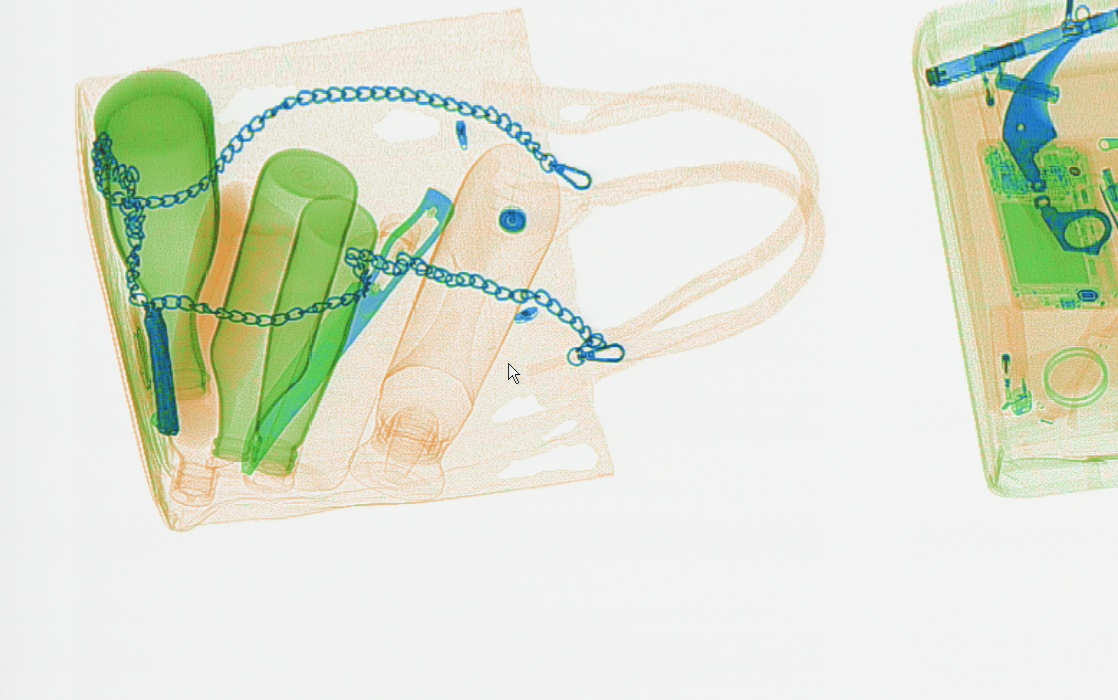knife: (240, 185, 454, 468), (1001, 27, 1112, 254), (140, 299, 178, 434)
lighter: (987, 299, 1032, 421), (969, 43, 1003, 158)
